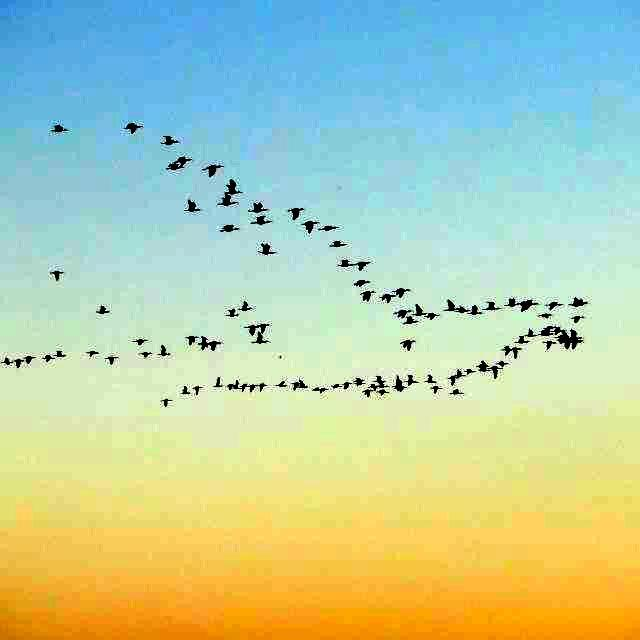bird: (502, 335, 526, 365), (181, 192, 201, 226), (567, 293, 601, 313), (202, 153, 224, 180), (211, 192, 239, 212), (348, 271, 372, 294), (248, 240, 278, 258), (220, 170, 242, 193), (329, 230, 352, 252), (193, 329, 211, 357), (238, 292, 259, 316), (292, 376, 310, 404), (284, 200, 306, 222), (82, 341, 100, 366), (328, 364, 342, 396), (544, 290, 564, 312), (393, 301, 412, 324), (122, 118, 143, 138), (92, 298, 112, 319), (160, 129, 180, 150), (444, 288, 458, 318), (246, 197, 270, 214), (213, 221, 242, 235), (104, 352, 125, 371), (22, 346, 40, 368), (249, 334, 271, 352), (336, 252, 354, 274), (372, 382, 390, 404), (568, 308, 590, 326), (158, 334, 172, 362), (413, 292, 427, 320), (492, 346, 506, 374), (50, 119, 70, 138), (318, 218, 339, 236), (502, 291, 523, 309), (483, 297, 505, 314), (448, 382, 466, 402), (404, 368, 421, 389), (47, 264, 63, 286), (40, 342, 56, 364), (380, 288, 396, 310), (163, 159, 183, 176), (241, 379, 254, 405), (14, 346, 26, 374), (539, 322, 560, 338), (130, 333, 152, 348), (224, 303, 239, 325), (231, 367, 241, 400), (302, 217, 321, 234), (358, 250, 374, 270), (390, 376, 406, 396), (249, 218, 275, 230), (210, 374, 224, 396), (397, 338, 419, 352), (448, 370, 462, 392), (476, 348, 487, 376), (486, 365, 500, 387), (136, 349, 154, 366), (2, 349, 14, 374), (428, 307, 443, 327), (527, 320, 537, 350), (176, 154, 200, 166), (396, 282, 414, 298), (210, 334, 223, 356), (184, 330, 198, 350), (372, 368, 388, 385), (467, 302, 484, 318), (344, 376, 356, 398), (421, 384, 443, 396), (464, 362, 476, 384), (180, 378, 190, 404), (259, 315, 272, 335), (570, 331, 583, 351), (360, 287, 376, 303), (520, 294, 538, 308), (542, 338, 556, 356), (276, 376, 288, 396), (350, 368, 362, 388), (456, 301, 472, 316), (52, 346, 69, 360), (190, 382, 203, 399), (536, 308, 554, 320), (426, 367, 438, 385), (162, 392, 172, 412), (316, 385, 330, 399), (225, 378, 235, 396), (261, 379, 270, 398), (361, 389, 374, 402), (245, 324, 258, 336), (403, 318, 422, 326), (314, 385, 322, 390)
